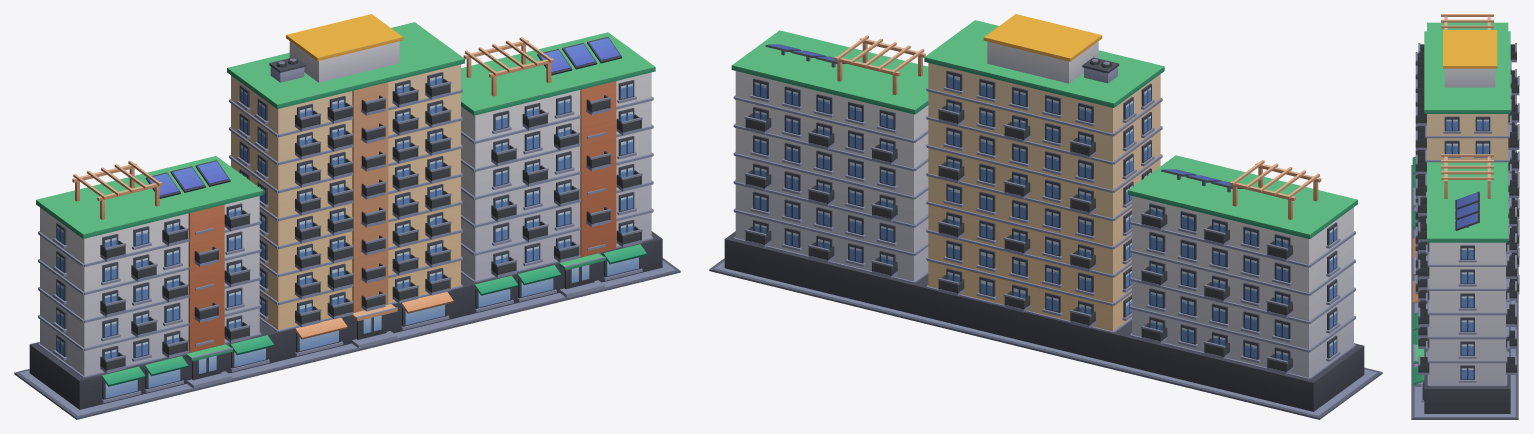
File: res_modern_promenade_5x1.glb
3 views of the same model, side by side, from view 1: azimuth 30°, elevation 25°; view 2: azimuth 150°, elevation 25°; view 3: azimuth 270°, elevation 25° (orthographic). The views are drawn at different scales.
Visible parts, largest first — view 1: res_modern_promenade_5x1; view 2: res_modern_promenade_5x1; view 3: res_modern_promenade_5x1.
Part boxes in pixels (left/top/right/bottom): res_modern_promenade_5x1: left=14, top=14, right=680, bottom=419; res_modern_promenade_5x1: left=709, top=14, right=1382, bottom=419; res_modern_promenade_5x1: left=1411, top=14, right=1519, bottom=419.
Bounding box in the file's own units: 9.72 × 4.39 × 1.75.
Materials: 1 (1 with a texture image).
